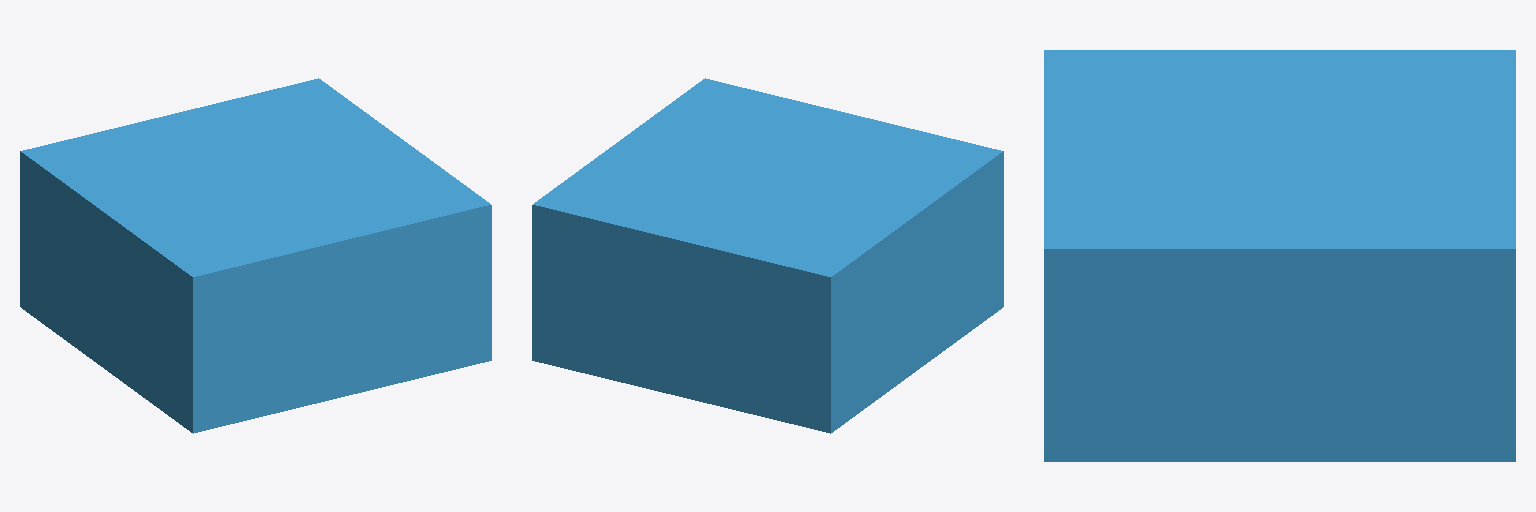
URDF robot description (imu):
<?xml version="1.0" encoding="utf-8"?>
<!-- =================================================================================== -->
<!-- |    This document was autogenerated by xacro from imu.urdf.xacro                 | -->
<!-- |    EDITING THIS FILE BY HAND IS NOT RECOMMENDED                                 | -->
<!-- =================================================================================== -->
<robot name="imu">
  <link name="world"/>
  <joint name="imu_to_world0_est" type="floating">
    <parent link="world"/>
    <child link="imu_link0_est"/>
    <!-- XYZ, RPY from parent Visual Origin (Center o Gravity) -->
    <!-- in this case it's 0 0 0-->
    <origin rpy="0 0 0" xyz="0 0 0"/>
  </joint>
  <link name="imu_link0_est">
    <inertial>
      <origin rpy="0 0 0" xyz="0 0 0.005"/>
      <mass value="0.01"/>
      <inertia ixx="0.0" ixy="0.0" ixz="0.0" iyy="0.0" iyz="0.0" izz="0.0"/>
    </inertial>
    <visual>
      <origin rpy="0 0 0" xyz="0 0 0.005"/>
      <geometry>
        <box size="0.02 0.02 0.01"/>
      </geometry>
    </visual>
  </link>
  <gazebo reference="imu_link0_est">
    <material>Gazebo/White</material>
    <gravity>false</gravity>
    <sensor name="imu_sensor0_est" type="imu">
      <always_on>true</always_on>
      <update_rate>100</update_rate>
      <visualize>true</visualize>
      <topic>imu_data0_est</topic>
      <plugin filename="libgazebo_ros_imu_sensor.so" name="imu_plugin">
        <topicName>imu_data0_est</topicName>
        <bodyName>imu_link0_est</bodyName>
        <updateRateHZ>100.0</updateRateHZ>
        <gaussianNoise>0.0</gaussianNoise>
        <xyzOffset>0.0 0.0 0.0</xyzOffset>
        <rpyOffset>0 0 0</rpyOffset>
        <frameName>imu_link0_est</frameName>
      </plugin>
      <pose>0 0 0 0 0 0</pose>
    </sensor>
  </gazebo>
  <joint name="imu_to_world1_est" type="floating">
    <parent link="world"/>
    <child link="imu_link1_est"/>
    <!-- XYZ, RPY from parent Visual Origin (Center o Gravity) -->
    <!-- in this case it's 0 0 0-->
    <origin rpy="0 0 0" xyz="0 0 0"/>
  </joint>
  <link name="imu_link1_est">
    <inertial>
      <origin rpy="0 0 0" xyz="0 0 0.005"/>
      <mass value="0.01"/>
      <inertia ixx="0.0" ixy="0.0" ixz="0.0" iyy="0.0" iyz="0.0" izz="0.0"/>
    </inertial>
    <visual>
      <origin rpy="0 0 0" xyz="0 0 0.005"/>
      <geometry>
        <box size="0.02 0.02 0.01"/>
      </geometry>
    </visual>
  </link>
  <gazebo reference="imu_link1_est">
    <material>Gazebo/White</material>
    <gravity>false</gravity>
    <sensor name="imu_sensor1_est" type="imu">
      <always_on>true</always_on>
      <update_rate>100</update_rate>
      <visualize>true</visualize>
      <topic>imu_data1_est</topic>
      <plugin filename="libgazebo_ros_imu_sensor.so" name="imu_plugin">
        <topicName>imu_data1_est</topicName>
        <bodyName>imu_link1_est</bodyName>
        <updateRateHZ>100.0</updateRateHZ>
        <gaussianNoise>0.0</gaussianNoise>
        <xyzOffset>0.0 0.0 0.0</xyzOffset>
        <rpyOffset>0 0 0</rpyOffset>
        <frameName>imu_link1_est</frameName>
      </plugin>
      <pose>0 0 0 0 0 0</pose>
    </sensor>
  </gazebo>
  <joint name="imu_to_world2_est" type="floating">
    <parent link="world"/>
    <child link="imu_link2_est"/>
    <!-- XYZ, RPY from parent Visual Origin (Center o Gravity) -->
    <!-- in this case it's 0 0 0-->
    <origin rpy="0 0 0" xyz="0 0 0"/>
  </joint>
  <link name="imu_link2_est">
    <inertial>
      <origin rpy="0 0 0" xyz="0 0 0.005"/>
      <mass value="0.01"/>
      <inertia ixx="0.0" ixy="0.0" ixz="0.0" iyy="0.0" iyz="0.0" izz="0.0"/>
    </inertial>
    <visual>
      <origin rpy="0 0 0" xyz="0 0 0.005"/>
      <geometry>
        <box size="0.02 0.02 0.01"/>
      </geometry>
    </visual>
  </link>
  <gazebo reference="imu_link2_est">
    <material>Gazebo/White</material>
    <gravity>false</gravity>
    <sensor name="imu_sensor2_est" type="imu">
      <always_on>true</always_on>
      <update_rate>100</update_rate>
      <visualize>true</visualize>
      <topic>imu_data2_est</topic>
      <plugin filename="libgazebo_ros_imu_sensor.so" name="imu_plugin">
        <topicName>imu_data2_est</topicName>
        <bodyName>imu_link2_est</bodyName>
        <updateRateHZ>100.0</updateRateHZ>
        <gaussianNoise>0.0</gaussianNoise>
        <xyzOffset>0.0 0.0 0.0</xyzOffset>
        <rpyOffset>0 0 0</rpyOffset>
        <frameName>imu_link2_est</frameName>
      </plugin>
      <pose>0 0 0 0 0 0</pose>
    </sensor>
  </gazebo>
  <joint name="imu_to_world3_est" type="floating">
    <parent link="world"/>
    <child link="imu_link3_est"/>
    <!-- XYZ, RPY from parent Visual Origin (Center o Gravity) -->
    <!-- in this case it's 0 0 0-->
    <origin rpy="0 0 0" xyz="0 0 0"/>
  </joint>
  <link name="imu_link3_est">
    <inertial>
      <origin rpy="0 0 0" xyz="0 0 0.005"/>
      <mass value="0.01"/>
      <inertia ixx="0.0" ixy="0.0" ixz="0.0" iyy="0.0" iyz="0.0" izz="0.0"/>
    </inertial>
    <visual>
      <origin rpy="0 0 0" xyz="0 0 0.005"/>
      <geometry>
        <box size="0.02 0.02 0.01"/>
      </geometry>
    </visual>
  </link>
  <gazebo reference="imu_link3_est">
    <material>Gazebo/White</material>
    <gravity>false</gravity>
    <sensor name="imu_sensor3_est" type="imu">
      <always_on>true</always_on>
      <update_rate>100</update_rate>
      <visualize>true</visualize>
      <topic>imu_data3_est</topic>
      <plugin filename="libgazebo_ros_imu_sensor.so" name="imu_plugin">
        <topicName>imu_data3_est</topicName>
        <bodyName>imu_link3_est</bodyName>
        <updateRateHZ>100.0</updateRateHZ>
        <gaussianNoise>0.0</gaussianNoise>
        <xyzOffset>0.0 0.0 0.0</xyzOffset>
        <rpyOffset>0 0 0</rpyOffset>
        <frameName>imu_link3_est</frameName>
      </plugin>
      <pose>0 0 0 0 0 0</pose>
    </sensor>
  </gazebo>
  <joint name="imu_to_world4_est" type="floating">
    <parent link="world"/>
    <child link="imu_link4_est"/>
    <!-- XYZ, RPY from parent Visual Origin (Center o Gravity) -->
    <!-- in this case it's 0 0 0-->
    <origin rpy="0 0 0" xyz="0 0 0"/>
  </joint>
  <link name="imu_link4_est">
    <inertial>
      <origin rpy="0 0 0" xyz="0 0 0.005"/>
      <mass value="0.01"/>
      <inertia ixx="0.0" ixy="0.0" ixz="0.0" iyy="0.0" iyz="0.0" izz="0.0"/>
    </inertial>
    <visual>
      <origin rpy="0 0 0" xyz="0 0 0.005"/>
      <geometry>
        <box size="0.02 0.02 0.01"/>
      </geometry>
    </visual>
  </link>
  <gazebo reference="imu_link4_est">
    <material>Gazebo/White</material>
    <gravity>false</gravity>
    <sensor name="imu_sensor4_est" type="imu">
      <always_on>true</always_on>
      <update_rate>100</update_rate>
      <visualize>true</visualize>
      <topic>imu_data4_est</topic>
      <plugin filename="libgazebo_ros_imu_sensor.so" name="imu_plugin">
        <topicName>imu_data4_est</topicName>
        <bodyName>imu_link4_est</bodyName>
        <updateRateHZ>100.0</updateRateHZ>
        <gaussianNoise>0.0</gaussianNoise>
        <xyzOffset>0.0 0.0 0.0</xyzOffset>
        <rpyOffset>0 0 0</rpyOffset>
        <frameName>imu_link4_est</frameName>
      </plugin>
      <pose>0 0 0 0 0 0</pose>
    </sensor>
  </gazebo>
  <joint name="imu_to_world5_est" type="floating">
    <parent link="world"/>
    <child link="imu_link5_est"/>
    <!-- XYZ, RPY from parent Visual Origin (Center o Gravity) -->
    <!-- in this case it's 0 0 0-->
    <origin rpy="0 0 0" xyz="0 0 0"/>
  </joint>
  <link name="imu_link5_est">
    <inertial>
      <origin rpy="0 0 0" xyz="0 0 0.005"/>
      <mass value="0.01"/>
      <inertia ixx="0.0" ixy="0.0" ixz="0.0" iyy="0.0" iyz="0.0" izz="0.0"/>
    </inertial>
    <visual>
      <origin rpy="0 0 0" xyz="0 0 0.005"/>
      <geometry>
        <box size="0.02 0.02 0.01"/>
      </geometry>
    </visual>
  </link>
  <gazebo reference="imu_link5_est">
    <material>Gazebo/White</material>
    <gravity>false</gravity>
    <sensor name="imu_sensor5_est" type="imu">
      <always_on>true</always_on>
      <update_rate>100</update_rate>
      <visualize>true</visualize>
      <topic>imu_data5_est</topic>
      <plugin filename="libgazebo_ros_imu_sensor.so" name="imu_plugin">
        <topicName>imu_data5_est</topicName>
        <bodyName>imu_link5_est</bodyName>
        <updateRateHZ>100.0</updateRateHZ>
        <gaussianNoise>0.0</gaussianNoise>
        <xyzOffset>0.0 0.0 0.0</xyzOffset>
        <rpyOffset>0 0 0</rpyOffset>
        <frameName>imu_link5_est</frameName>
      </plugin>
      <pose>0 0 0 0 0 0</pose>
    </sensor>
  </gazebo>
  <joint name="imu_to_world6_est" type="floating">
    <parent link="world"/>
    <child link="imu_link6_est"/>
    <!-- XYZ, RPY from parent Visual Origin (Center o Gravity) -->
    <!-- in this case it's 0 0 0-->
    <origin rpy="0 0 0" xyz="0 0 0"/>
  </joint>
  <link name="imu_link6_est">
    <inertial>
      <origin rpy="0 0 0" xyz="0 0 0.005"/>
      <mass value="0.01"/>
      <inertia ixx="0.0" ixy="0.0" ixz="0.0" iyy="0.0" iyz="0.0" izz="0.0"/>
    </inertial>
    <visual>
      <origin rpy="0 0 0" xyz="0 0 0.005"/>
      <geometry>
        <box size="0.02 0.02 0.01"/>
      </geometry>
    </visual>
  </link>
  <gazebo reference="imu_link6_est">
    <material>Gazebo/White</material>
    <gravity>false</gravity>
    <sensor name="imu_sensor6_est" type="imu">
      <always_on>true</always_on>
      <update_rate>100</update_rate>
      <visualize>true</visualize>
      <topic>imu_data6_est</topic>
      <plugin filename="libgazebo_ros_imu_sensor.so" name="imu_plugin">
        <topicName>imu_data6_est</topicName>
        <bodyName>imu_link6_est</bodyName>
        <updateRateHZ>100.0</updateRateHZ>
        <gaussianNoise>0.0</gaussianNoise>
        <xyzOffset>0.0 0.0 0.0</xyzOffset>
        <rpyOffset>0 0 0</rpyOffset>
        <frameName>imu_link6_est</frameName>
      </plugin>
      <pose>0 0 0 0 0 0</pose>
    </sensor>
  </gazebo>
  <gazebo>
    <static>true</static>
  </gazebo>
</robot>

--- Render facts (derived) ---
3 views of the same robot in one strip: view 1: azimuth 30°, elevation 25°; view 2: azimuth 150°, elevation 25°; view 3: azimuth 270°, elevation 25° (orthographic).
Model imu with 8 links and 7 joints (7 floating), rooted at world, posed all joints at 0.
Links seen in each view (by area): view 1: imu_link0_est; view 2: imu_link0_est; view 3: imu_link0_est.
Link boxes in pixels (x1,y1,x2,y2): imu_link0_est: (20, 78, 491, 433); imu_link0_est: (532, 78, 1003, 433); imu_link0_est: (1044, 50, 1515, 461).
Size in the robot's own frame: 0.02 by 0.02 by 0.01 metres.
Geometry: primitives only (box / cylinder / sphere), no mesh files.